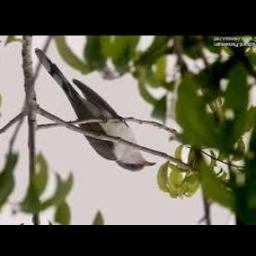Cuckoo: (36, 47, 157, 172)
